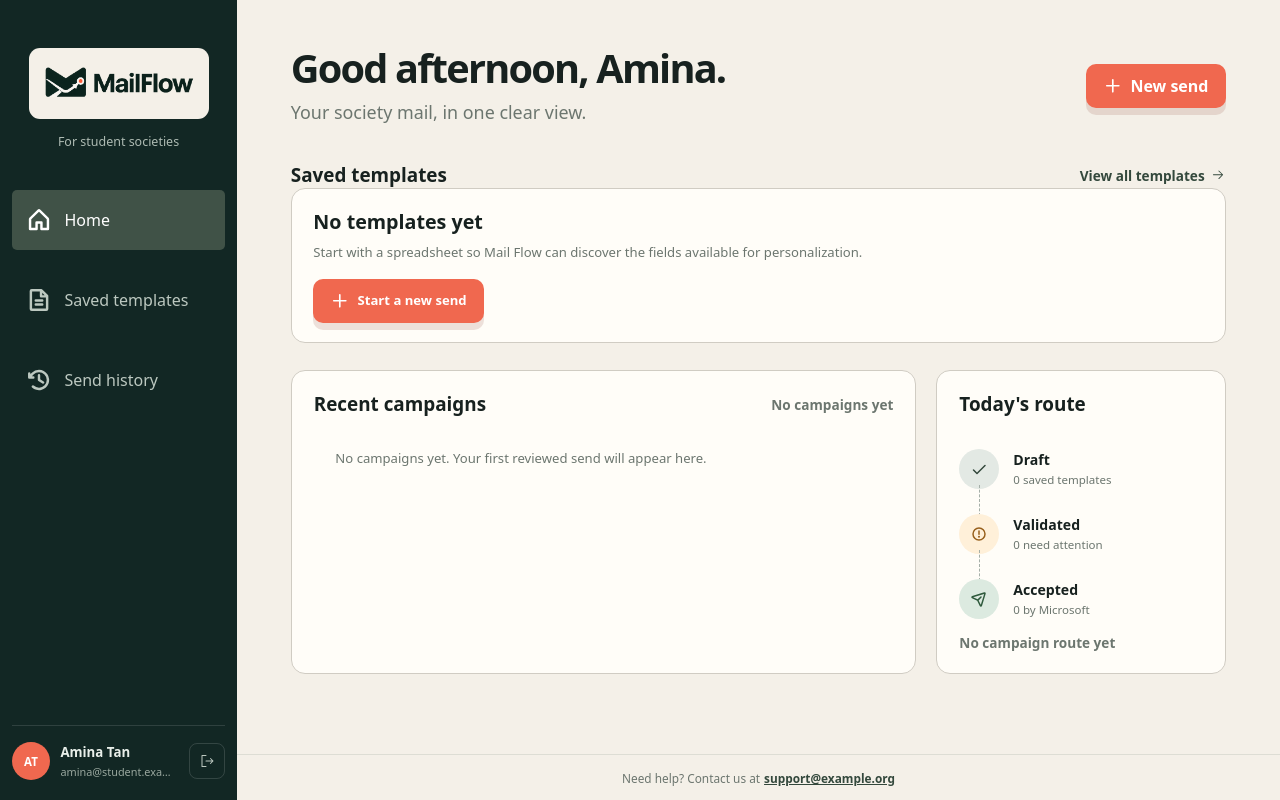
it: authenticated information architecture › does not let an older overlapping request replace newer route data
This screenshot has width=1280, height=800.
Check: the heading "Good afternoon, Amina." is shown, box [291,48,725,89]
Click the link "Saved templates": (107, 300) [26,287,188,313]
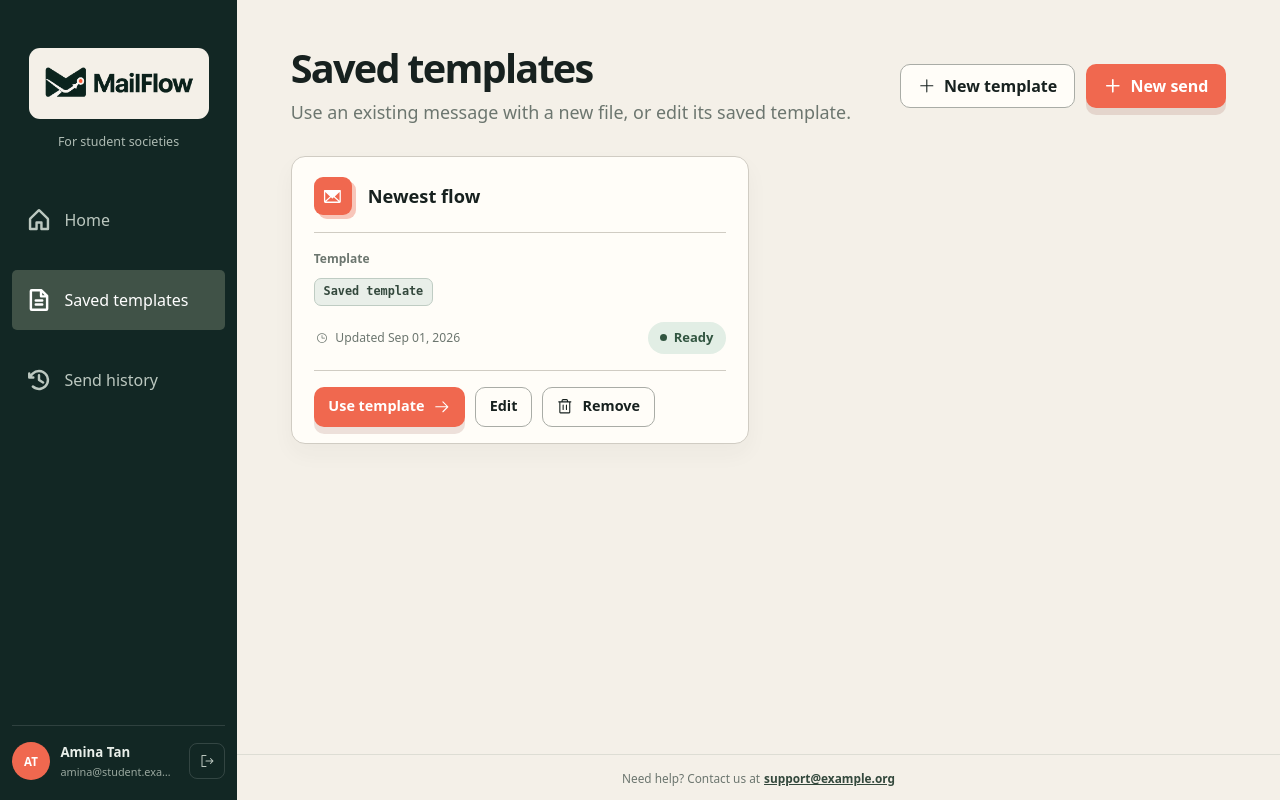
Check: the heading "Newest flow" is shown, box [368,184,480,208]
